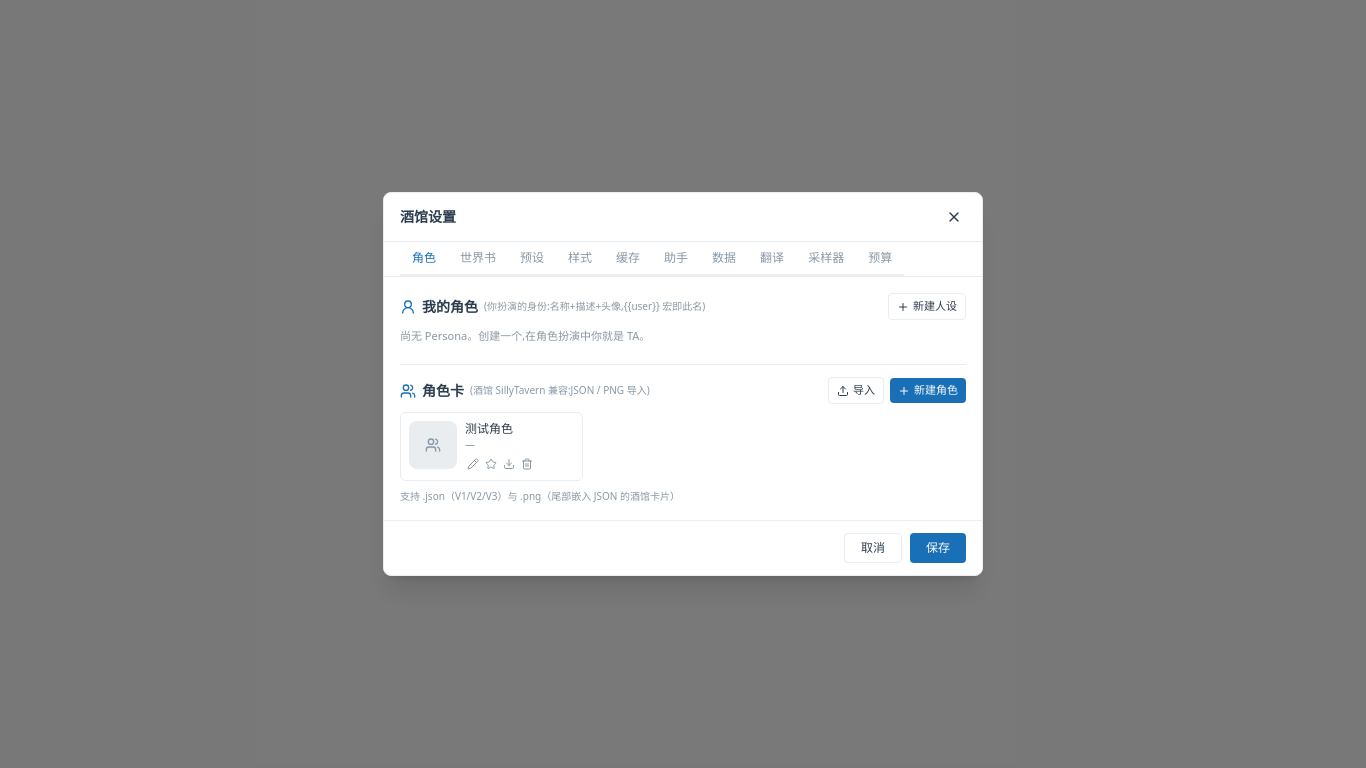
Test: 全局条目名册：逐条开关（2026-09-25 改造） › 页顶汇总行显示已启用条数与字数（超预算只提醒不拦）
Click the button "预设" at [532, 259], box [508,242,556,276]
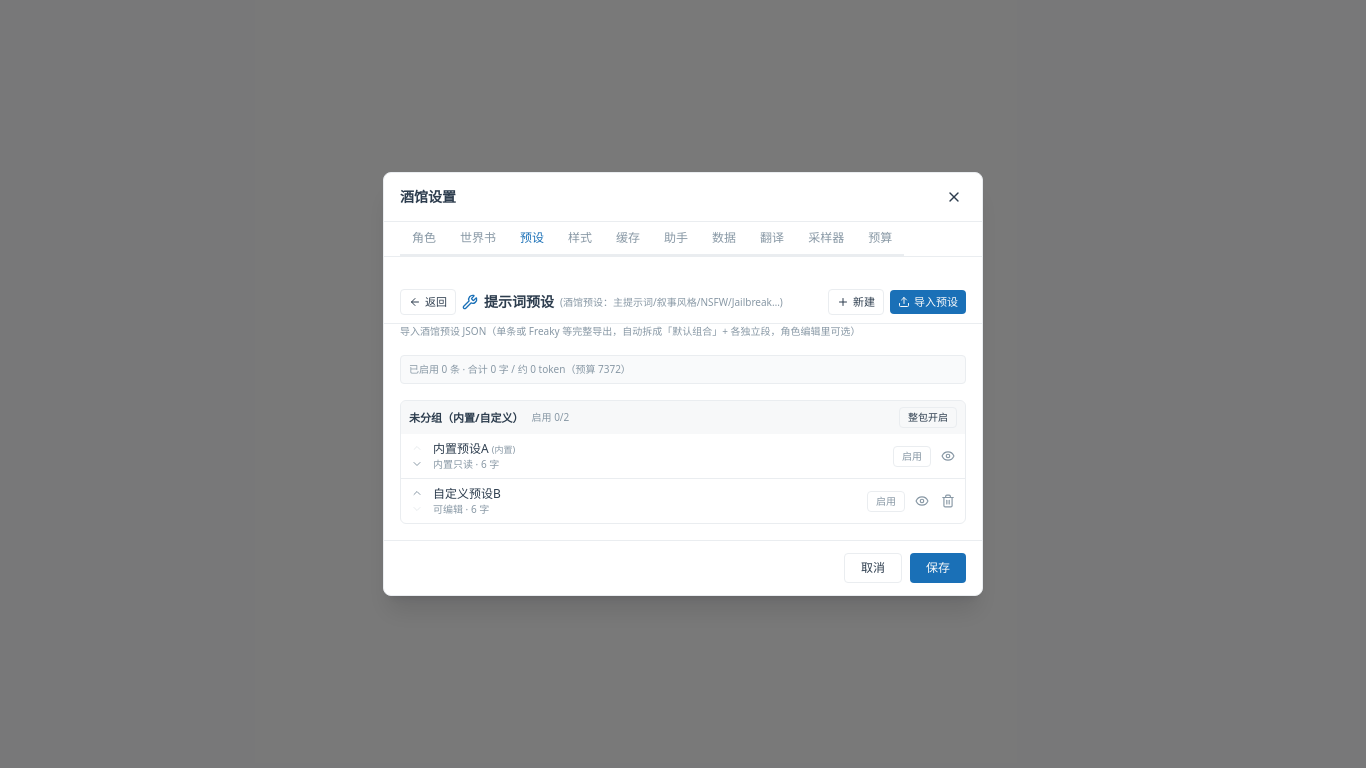
Result: the text "已启用 0 条 · 合计 0 字 / 约 0 token（预算 7372）" is shown at [409,362,631,377]
